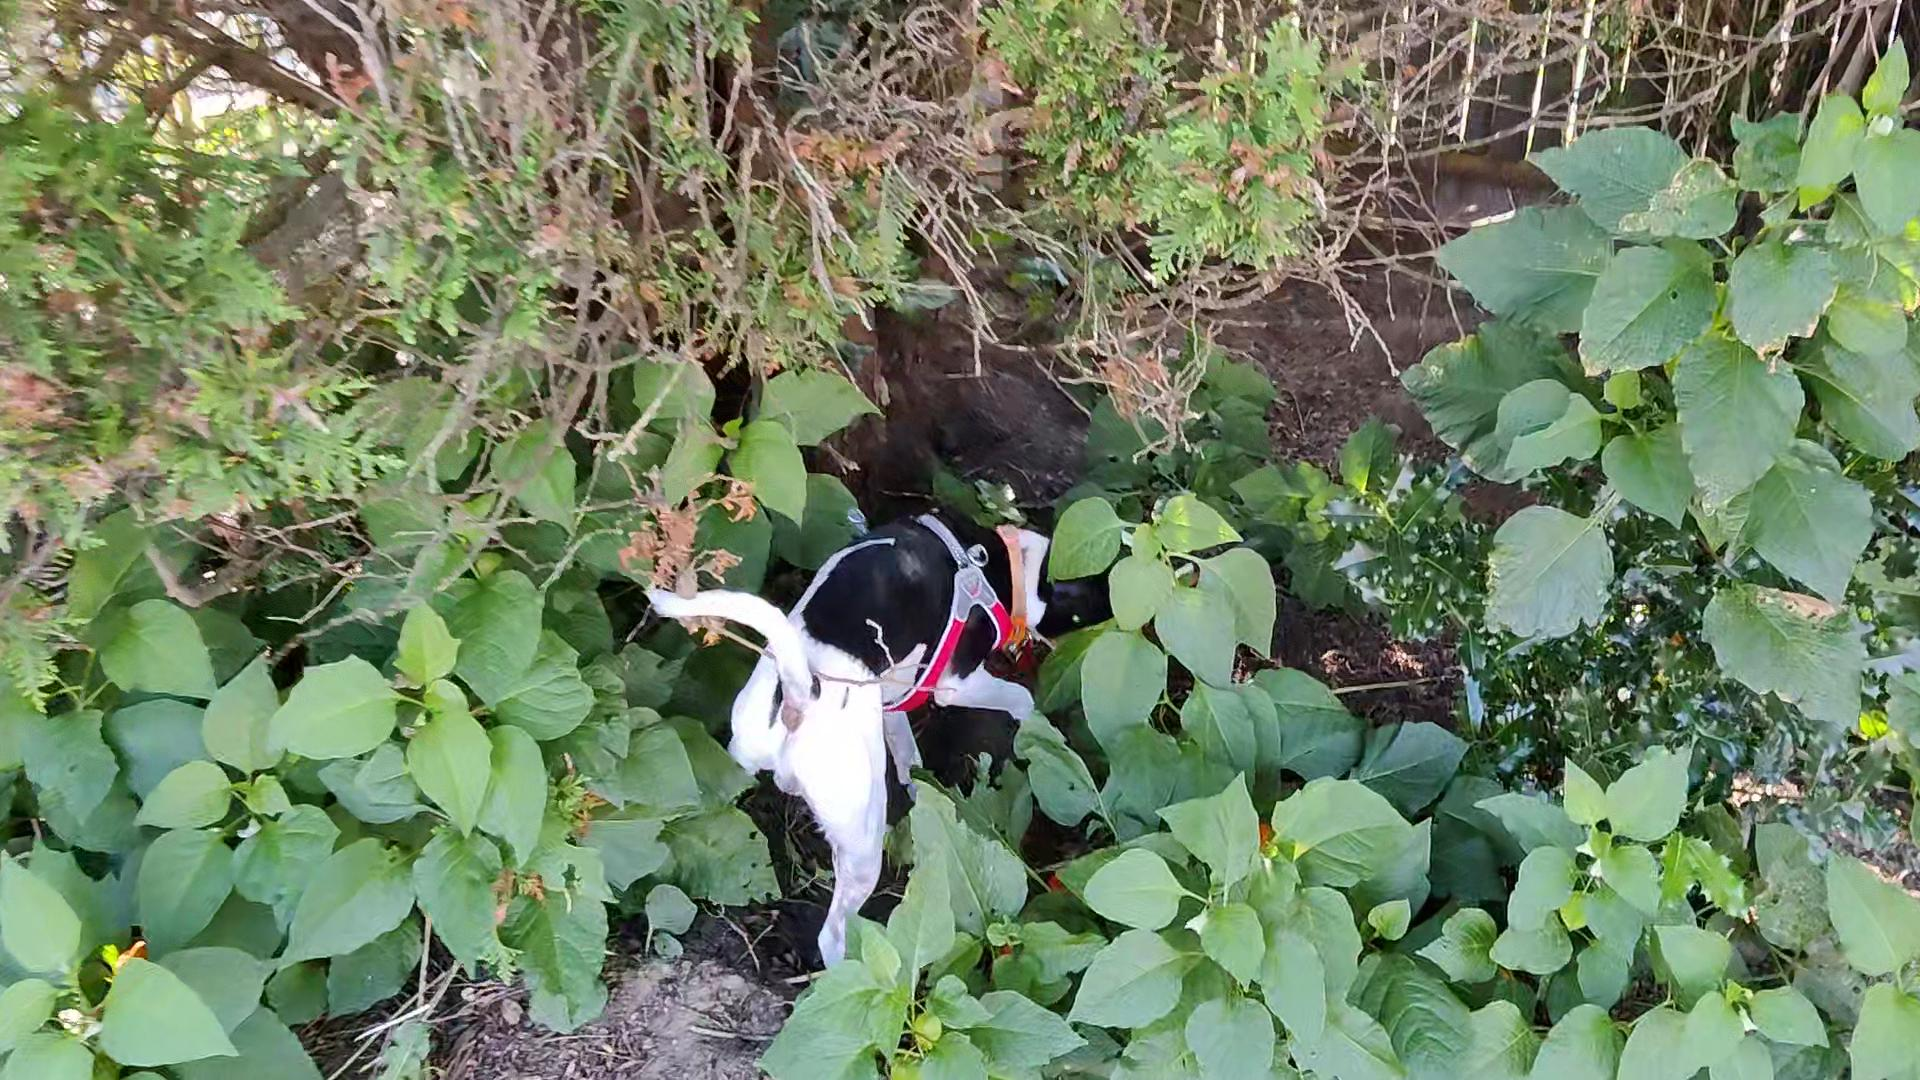Dog: (628, 473, 1125, 985)
